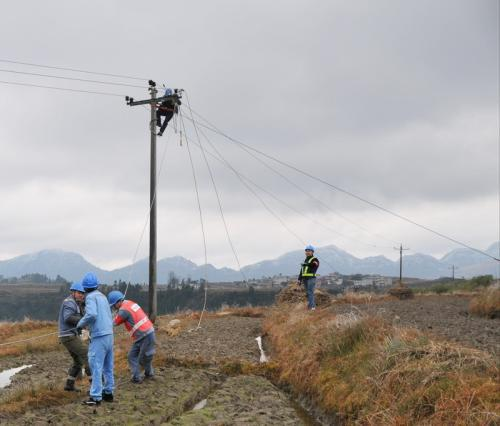helmet: (103, 288, 129, 312), (81, 269, 104, 295), (68, 279, 86, 303), (302, 243, 317, 259)
